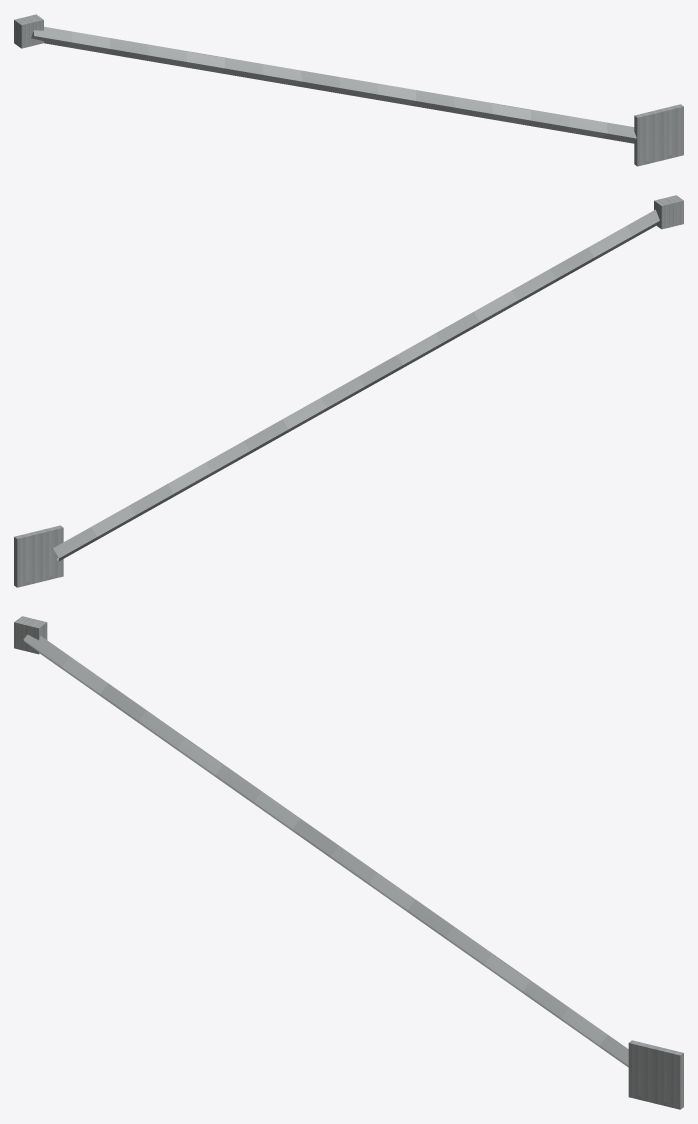
Rendered from brace_l.obj.
3 views of the same model, one above another, from view 1: azimuth 30°, elevation 25°; view 2: azimuth 210°, elevation 25°; view 3: azimuth 330°, elevation 25° (orthographic). The views are drawn at different scales.
Visible parts, largest first — view 1: crossarm_alley_metal_6_l; view 2: crossarm_alley_metal_6_l; view 3: crossarm_alley_metal_6_l.
Part boxes in pixels (left/top/right/bottom): crossarm_alley_metal_6_l: left=14, top=14, right=683, bottom=166; crossarm_alley_metal_6_l: left=14, top=195, right=683, bottom=587; crossarm_alley_metal_6_l: left=14, top=616, right=683, bottom=1109.
Size of the model in its own units: 4.23 by 1.67 by 0.4625.
